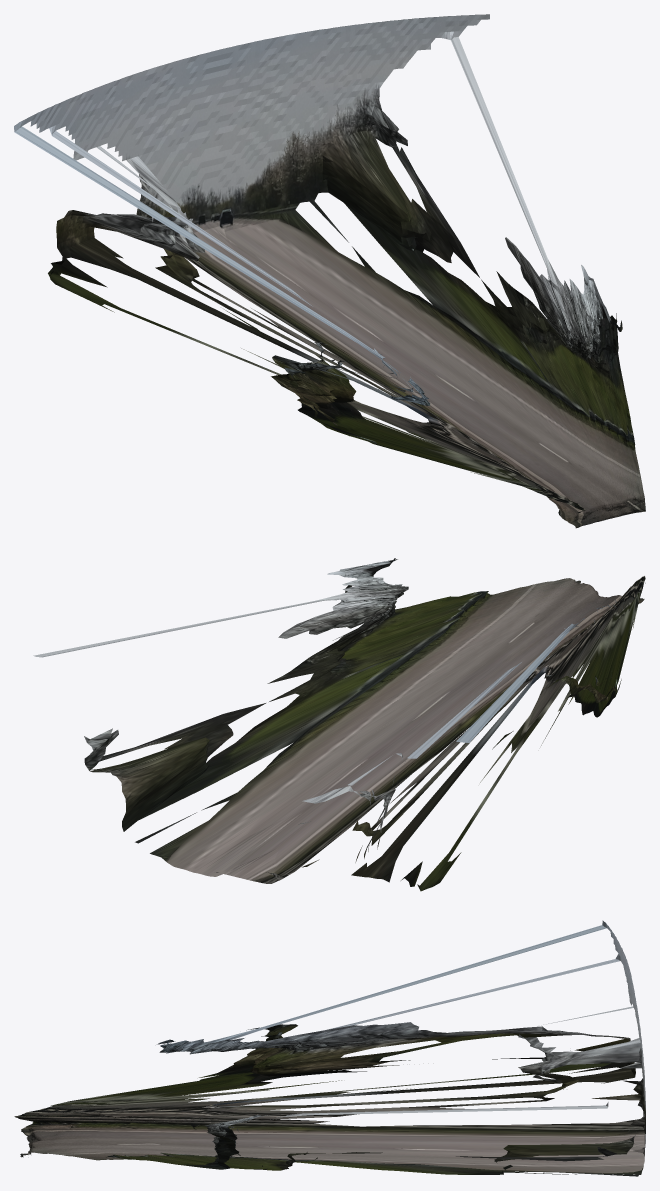
The picture shows the model from 3 angles, top to bottom: view 1: azimuth 30°, elevation 25°; view 2: azimuth 150°, elevation 25°; view 3: azimuth 270°, elevation 25°; orthographic projection. The views are drawn at different scales.
Parts seen in each view (by area): view 1: defaultobject; view 2: defaultobject; view 3: defaultobject.
Boxes of the visible parts, left/top/right/bottom form: defaultobject: left=14, top=14, right=645, bottom=528; defaultobject: left=33, top=558, right=645, bottom=891; defaultobject: left=14, top=920, right=645, bottom=1176.
Bounding box in the file's own units: 30.56 × 11.74 × 45.24.
1 material, 1 textured.
